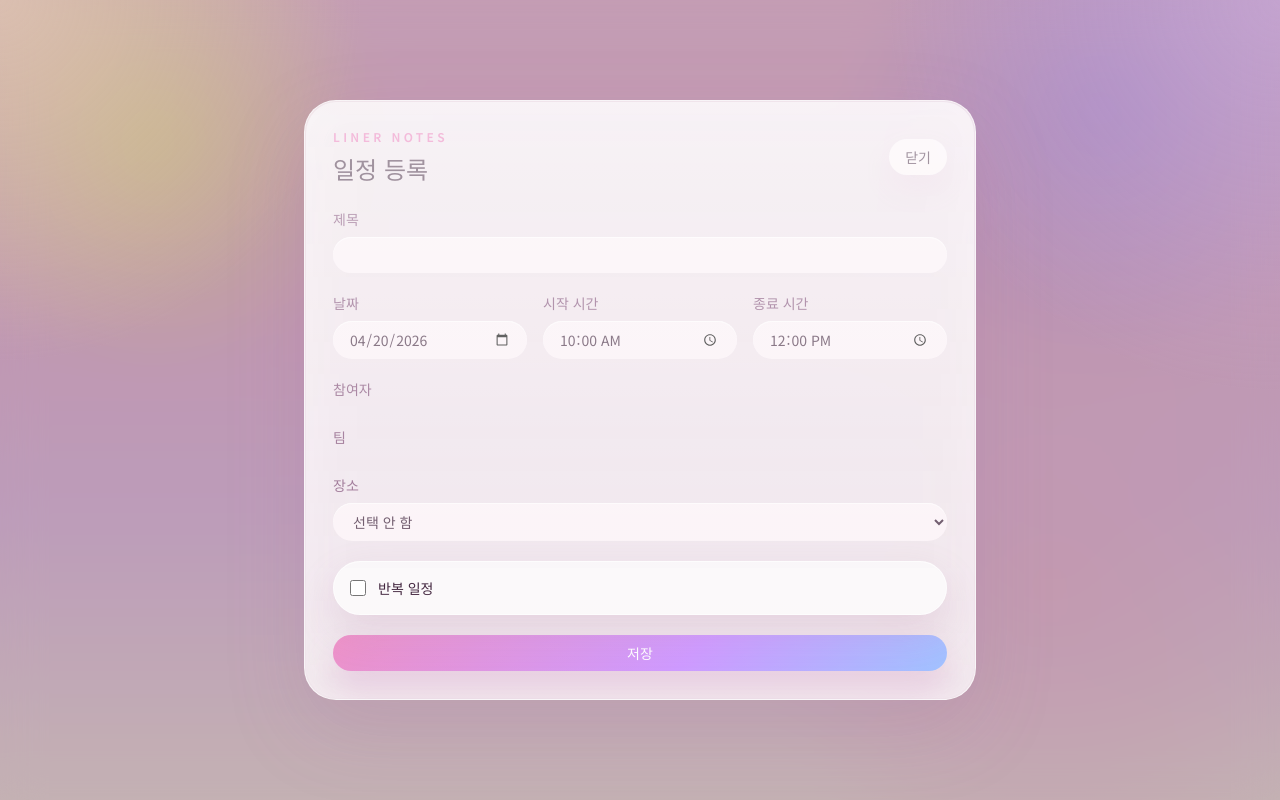
Test: shows recurrence fields when recurring is enabled
The image size is (1280, 800).
Click the checkbox labelled "반복 일정" at (358, 588), box top-left (350, 580), bottom-right (366, 596)
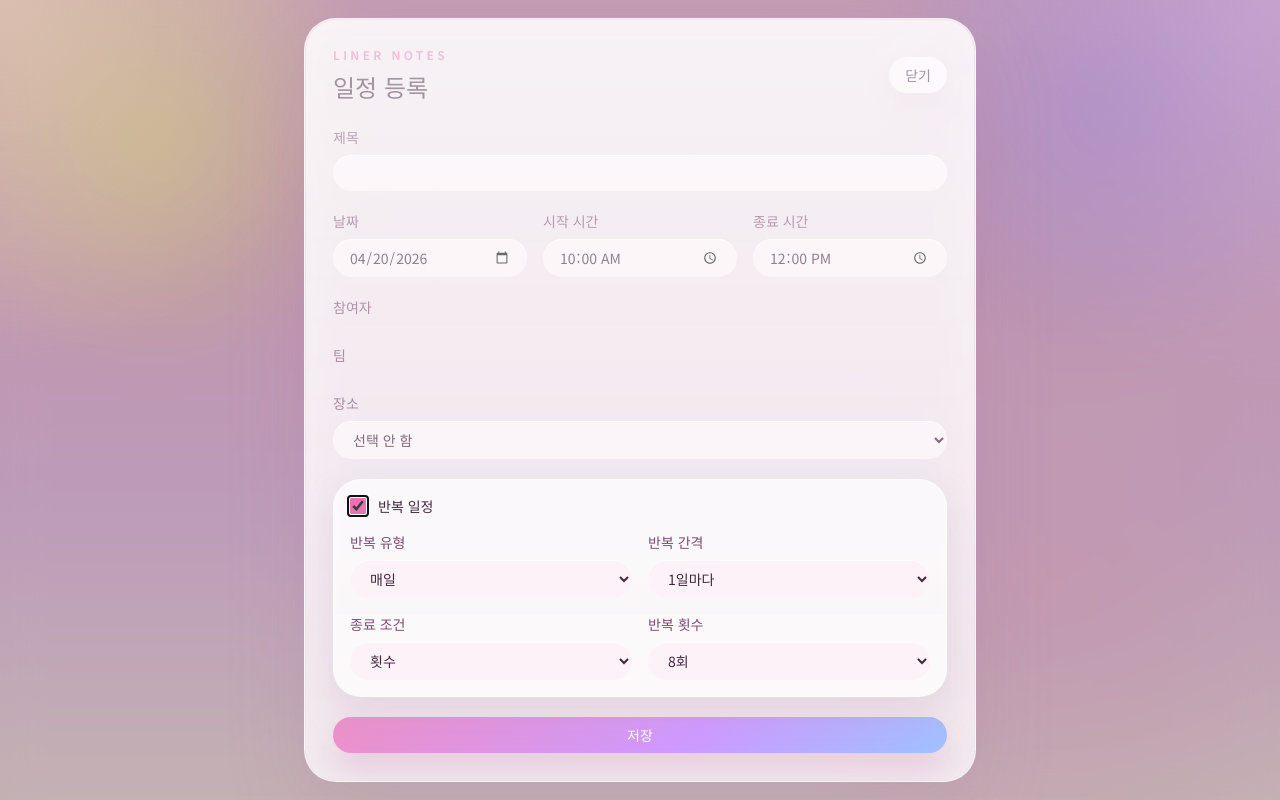
Expected: the text "반복 유형" is shown, top-left (350, 532), bottom-right (406, 552)
Expected: the text "종료 조건" is shown, top-left (350, 614), bottom-right (406, 634)
